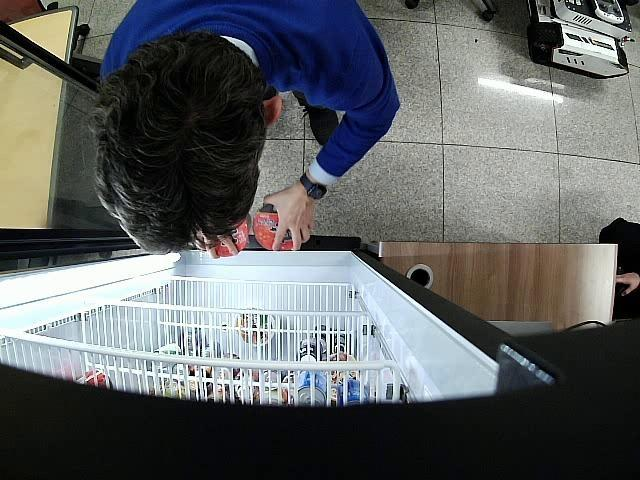01_ShinRamen_L: (252, 202, 292, 252), (216, 210, 252, 256)
